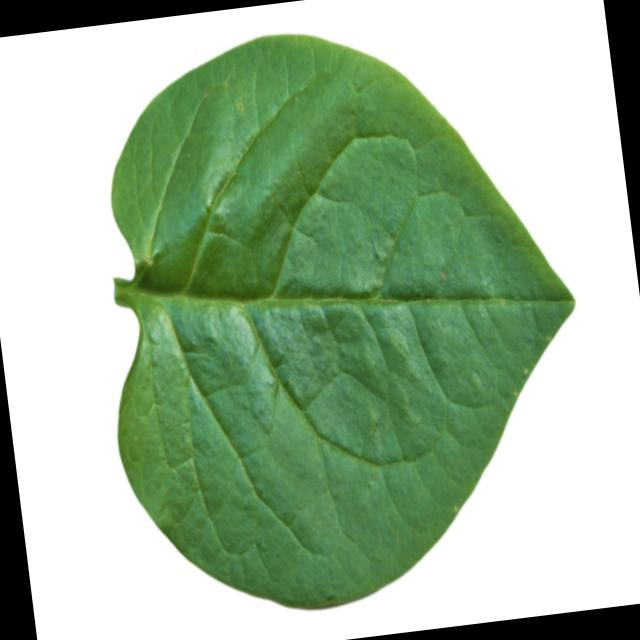Medicinal-Basale: (68, 0, 609, 630)
